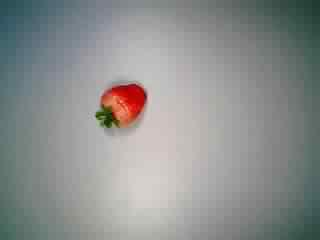strawberry: (87, 77, 153, 139)
